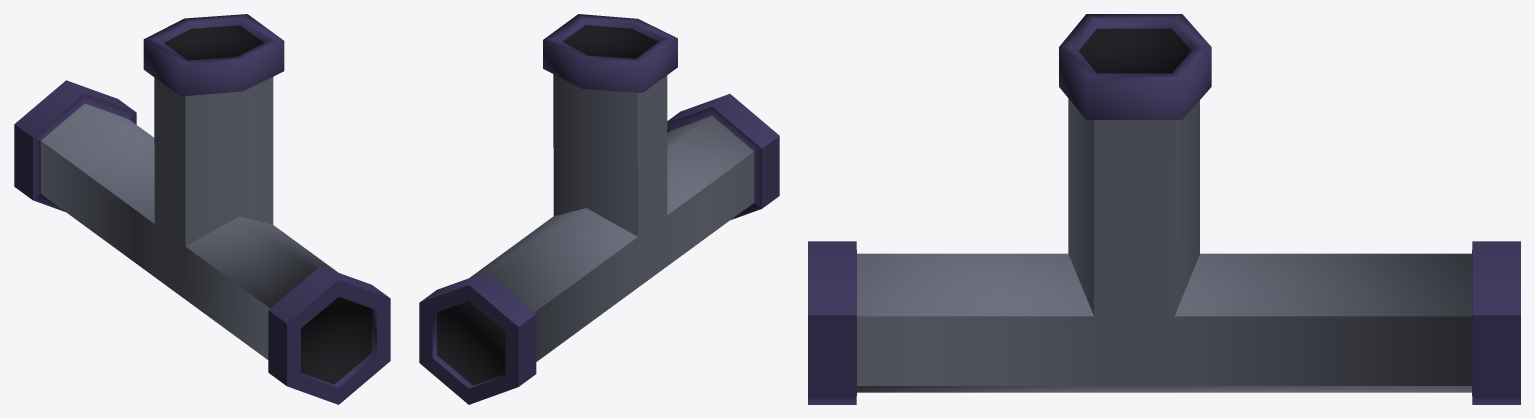
Rendered from T_Pipe.fbx.
The picture shows the model from 3 angles, left to right: view 1: azimuth 30°, elevation 25°; view 2: azimuth 150°, elevation 25°; view 3: azimuth 270°, elevation 25°; orthographic projection. The views are drawn at different scales.
Visible parts, largest first — view 1: T_Pipe; view 2: T_Pipe; view 3: T_Pipe.
Part boxes in pixels (bbox=[...]): T_Pipe: bbox=[14, 14, 390, 404]; T_Pipe: bbox=[419, 14, 779, 404]; T_Pipe: bbox=[808, 14, 1520, 404].
Size of the model in its own units: 0.0863 by 0.2173 by 0.3923.
